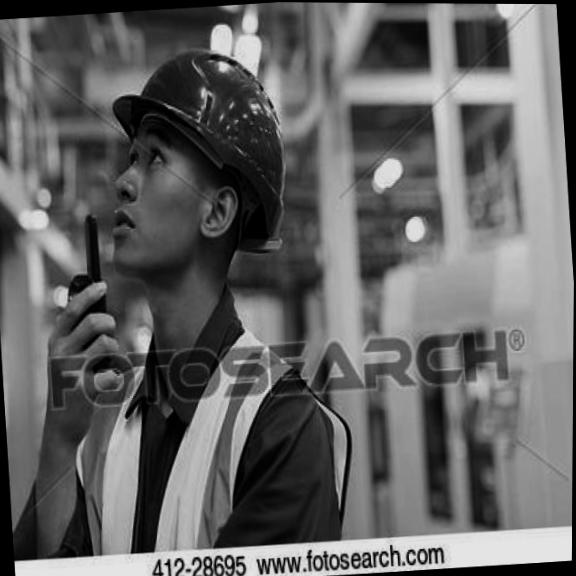safety_vest: (57, 341, 341, 543)
